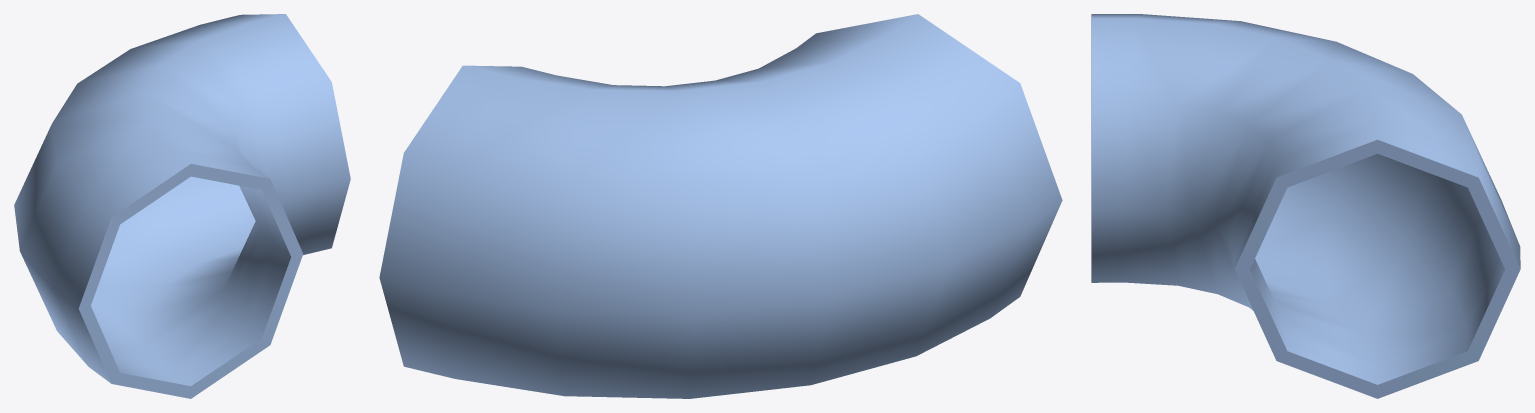
File: PipeSmall_Hollow_Bent_01.fbx
The picture shows the model from 3 angles, left to right: view 1: azimuth 30°, elevation 25°; view 2: azimuth 150°, elevation 25°; view 3: azimuth 270°, elevation 25°; orthographic projection. The views are drawn at different scales.
Visible parts, largest first — view 1: PipeSmall_Hollow_Bent_01.001; view 2: PipeSmall_Hollow_Bent_01.001; view 3: PipeSmall_Hollow_Bent_01.001.
Boxes of the visible parts, x1=… form: PipeSmall_Hollow_Bent_01.001: x1=14, y1=14, x2=350, y2=398; PipeSmall_Hollow_Bent_01.001: x1=379, y1=14, x2=1062, y2=398; PipeSmall_Hollow_Bent_01.001: x1=1091, y1=14, x2=1520, y2=398.
Size of the model in its own units: 0.1501 by 0.1 by 0.1501.
